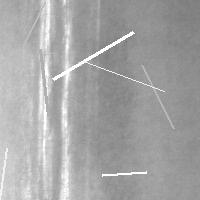scratches: (48, 27, 138, 84), (0, 0, 50, 93), (33, 1, 52, 198), (78, 56, 169, 96), (136, 60, 178, 133), (57, 23, 71, 198), (35, 44, 53, 121), (97, 167, 151, 180), (0, 143, 11, 200)
